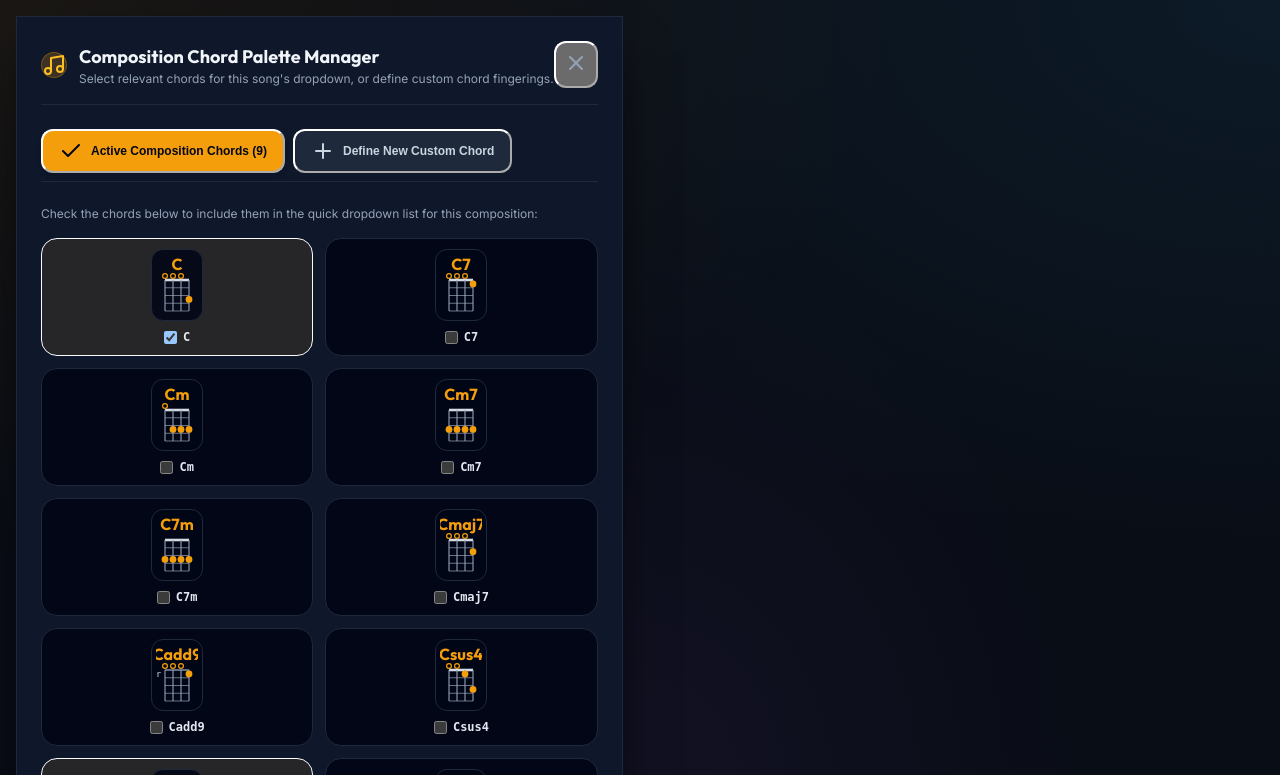
Test: ChordPaletteModal Component › switches to create tab and back
The width and height of the screenshot is (1280, 775).
Click the button "Define New Custom Chord" at [403, 151], box [293,129,512,173]
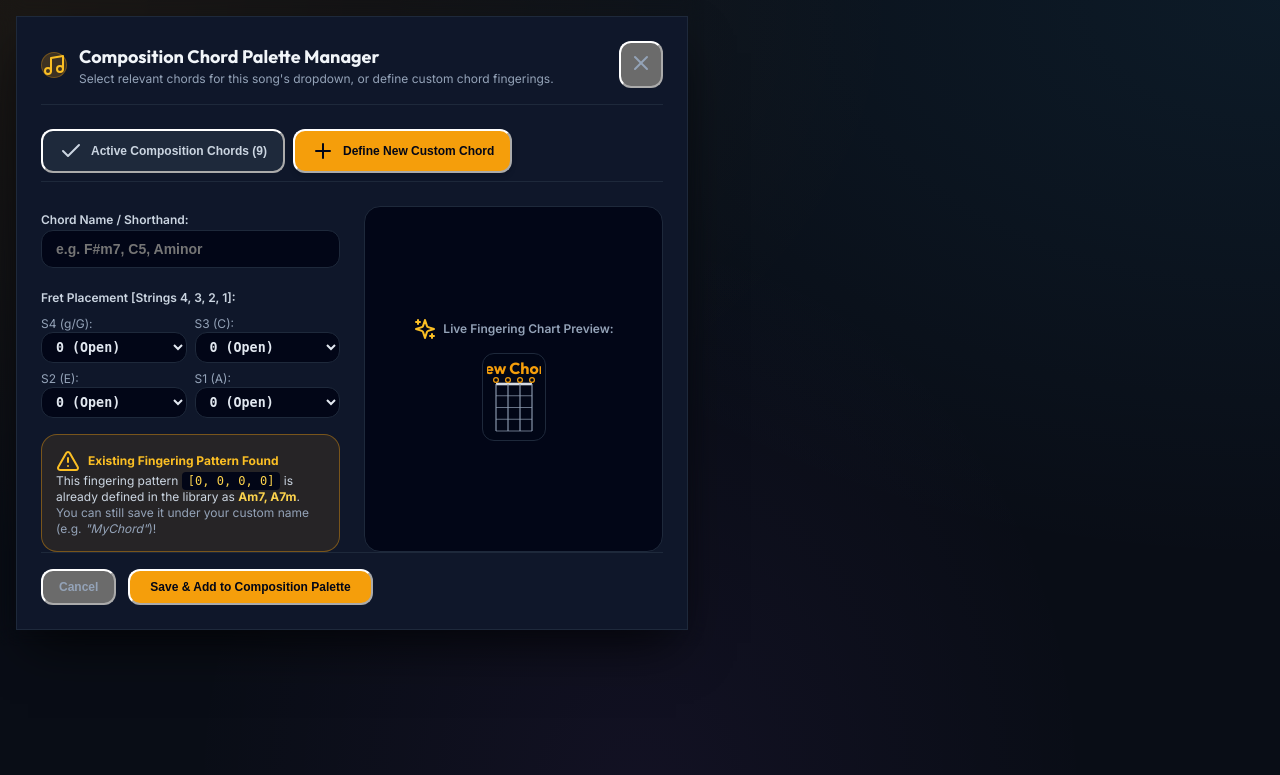
Check: the text "Live Fingering Chart Preview:" is shown, box [413,317,614,341]
Check: the button "Save & Add to Composition Palette" is shown, box [128,569,373,605]
